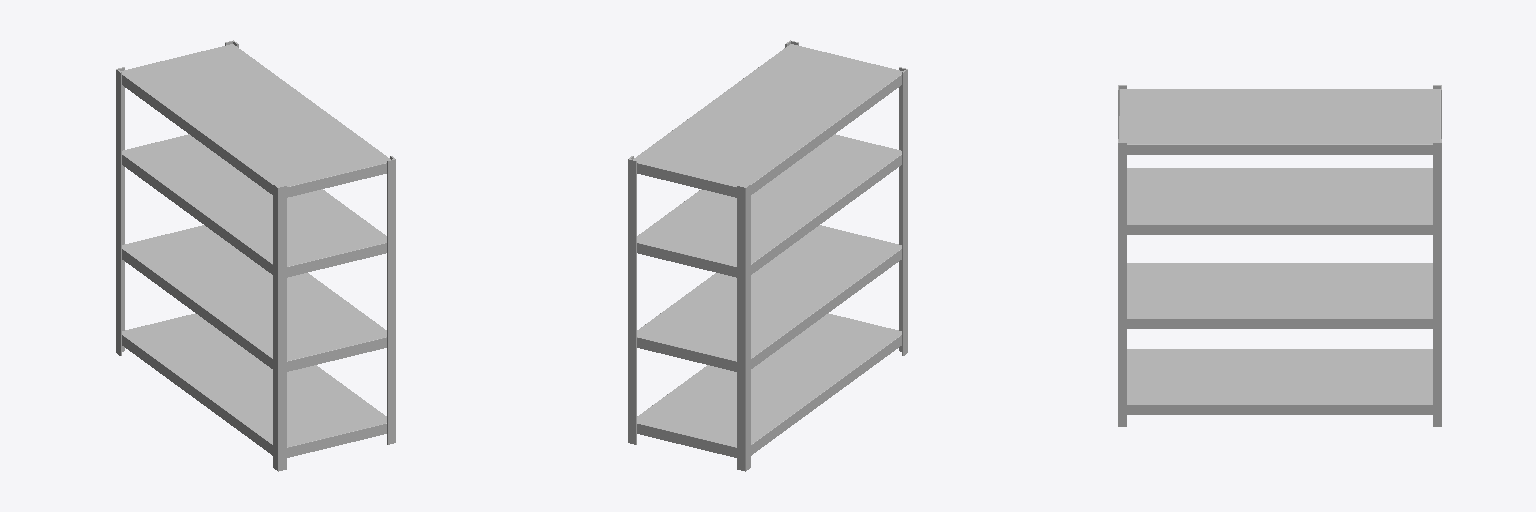
The model's file is Rack.obj.
3 renders of one model, left to right at view 1: azimuth 30°, elevation 25°; view 2: azimuth 150°, elevation 25°; view 3: azimuth 270°, elevation 25°, orthographic.
Parts seen in each view (by area): view 1: Racks; view 2: Racks; view 3: Racks.
Part boxes in pixels (x1,y1,x2,y2): Racks: (116,40,395,471); Racks: (628,40,907,471); Racks: (1118,85,1441,426).
Bounding box in the file's own units: 9.36 × 21.49 × 22.3.